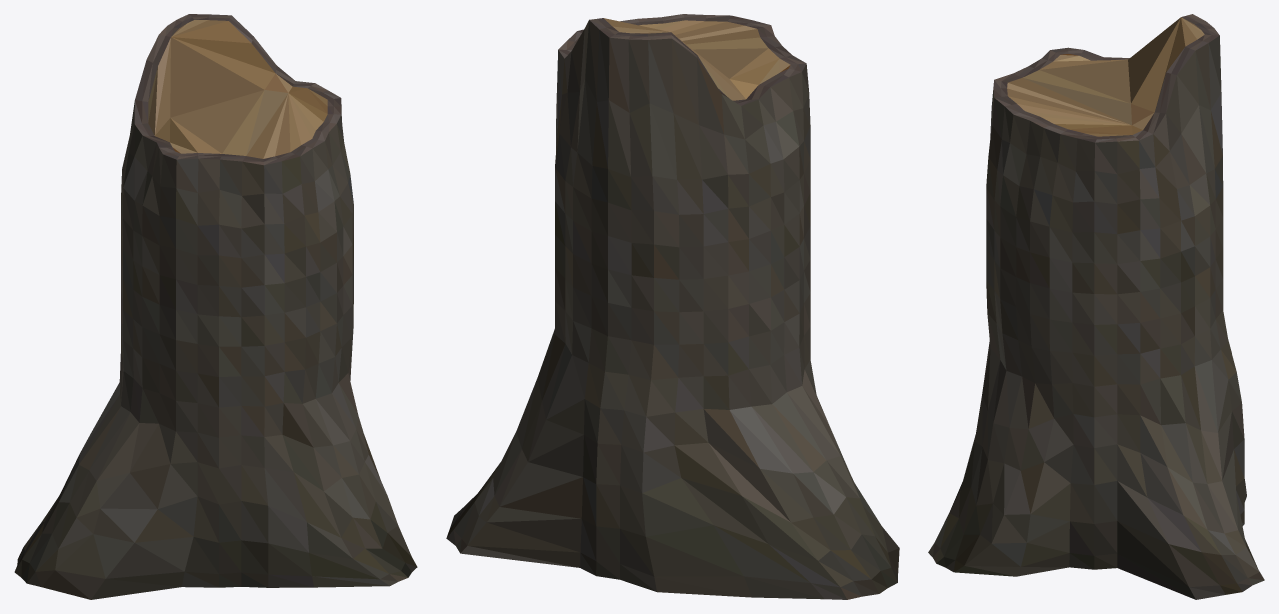
File: r32_stumpf_3.glb
The picture shows the model from 3 angles, left to right: view 1: azimuth 30°, elevation 25°; view 2: azimuth 150°, elevation 25°; view 3: azimuth 270°, elevation 25°; orthographic projection. The views are drawn at different scales.
Parts seen in each view (by area): view 1: stumpf; view 2: stumpf; view 3: stumpf.
Part boxes in pixels (x1,y1,x2,y2): stumpf: [14, 14, 417, 599]; stumpf: [446, 14, 899, 599]; stumpf: [928, 14, 1264, 599].
Size of the model in its own units: 0.7952 by 1 by 0.6249.
